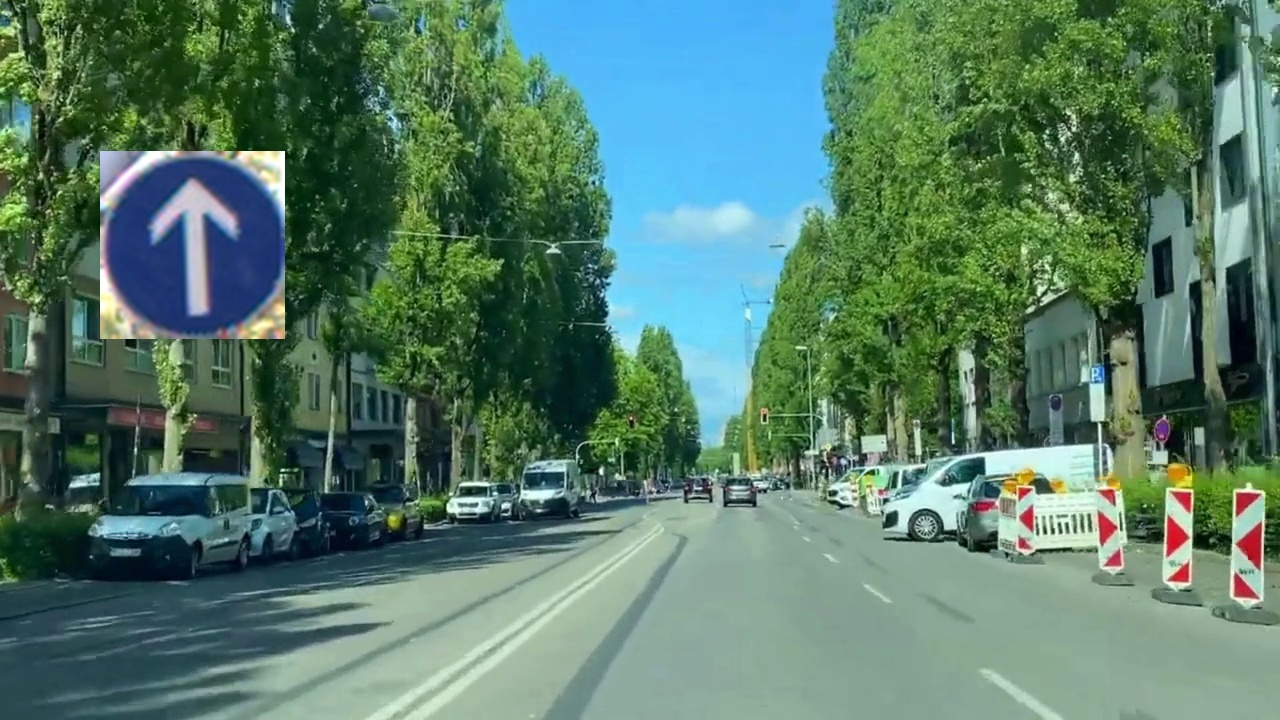Ahead only: (100, 151, 285, 339)
